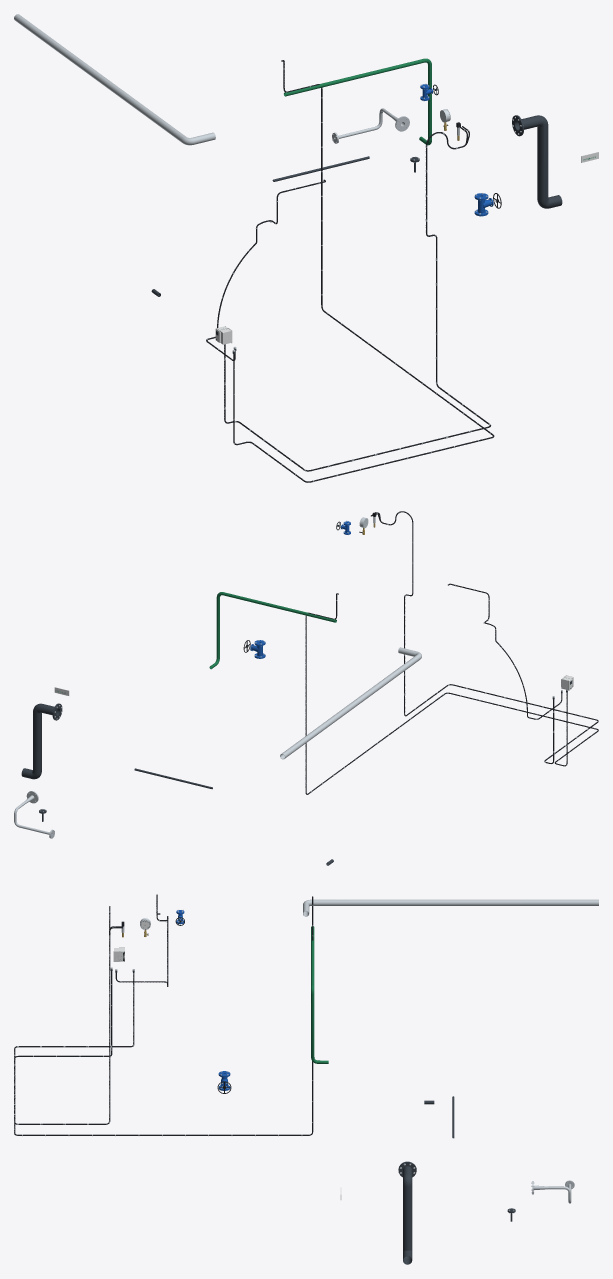
File: s4000-4-Dvr0s5Bv.glb
3 renders of one model, top to bottom at view 1: azimuth 30°, elevation 25°; view 2: azimuth 150°, elevation 25°; view 3: azimuth 270°, elevation 25°, orthographic. The views are drawn at different scales.
Parts seen in each view (by area): view 1: safety_vent_2 / steel, mod_eco_drive_cable / black, bdv_water_drain / dark, wiring_pressure_switch_3 / black, wiring_pressure_transmitter / black, to_direct / green; view 2: safety_vent_2 / steel, mod_eco_drive_cable / black, bdv_water_drain / dark, wiring_pressure_switch_3 / black, to_direct / green, wiring_pressure_transmitter / black; view 3: safety_vent_2 / steel, mod_eco_drive_cable / black, bdv_water_drain / dark, wiring_pressure_switch_3 / black, wiring_pressure_transmitter / black, to_direct / green.
Part boxes in pixels (left/top/right/bottom): safety_vent_2 / steel: left=14, top=14, right=215, bottom=145; mod_eco_drive_cable / black: left=233, top=60, right=494, bottom=482; bdv_water_drain / dark: left=512, top=115, right=562, bottom=208; wiring_pressure_switch_3 / black: left=224, top=126, right=490, bottom=471; wiring_pressure_transmitter / black: left=224, top=124, right=490, bottom=471; to_direct / green: left=284, top=58, right=431, bottom=145; safety_vent_2 / steel: left=280, top=647, right=421, bottom=759; mod_eco_drive_cable / black: left=305, top=593, right=598, bottom=794; bdv_water_drain / dark: left=21, top=703, right=62, bottom=779; wiring_pressure_switch_3 / black: left=371, top=511, right=597, bottom=763; to_direct / green: left=209, top=592, right=336, bottom=669; wiring_pressure_transmitter / black: left=376, top=511, right=598, bottom=763; safety_vent_2 / steel: left=303, top=899, right=598, bottom=916; mod_eco_drive_cable / black: left=14, top=896, right=313, bottom=1135; bdv_water_drain / dark: left=398, top=1161, right=416, bottom=1264; wiring_pressure_switch_3 / black: left=14, top=906, right=134, bottom=1124; wiring_pressure_transmitter / black: left=14, top=906, right=133, bottom=1124; to_direct / green: left=311, top=926, right=328, bottom=1063.
Bounding box in the file's own units: 6.07 × 3.25 × 7.03.
